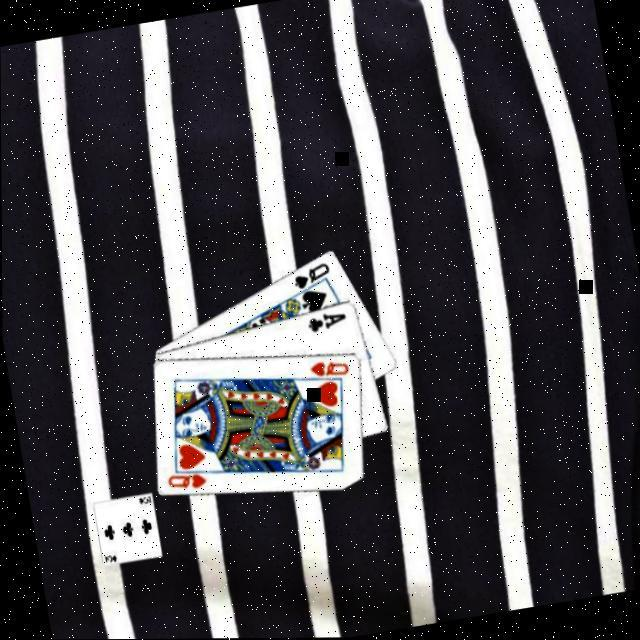AC: (302, 309, 348, 337)
QH: (161, 463, 214, 498), (304, 357, 350, 385)
QS: (286, 262, 332, 296)
